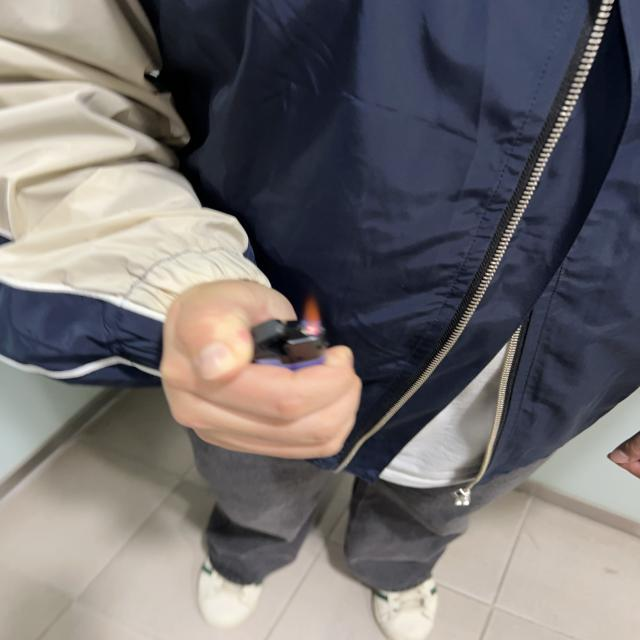fire: (300, 296, 322, 336)
